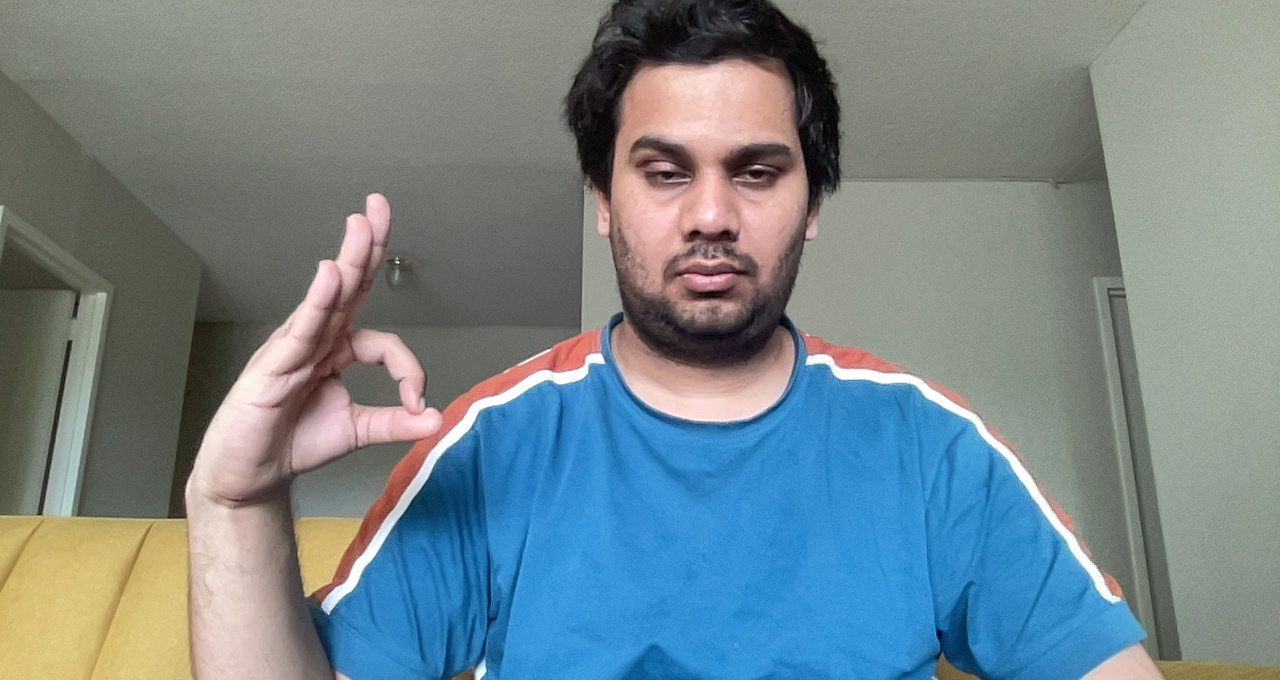ok: (168, 182, 453, 527)
